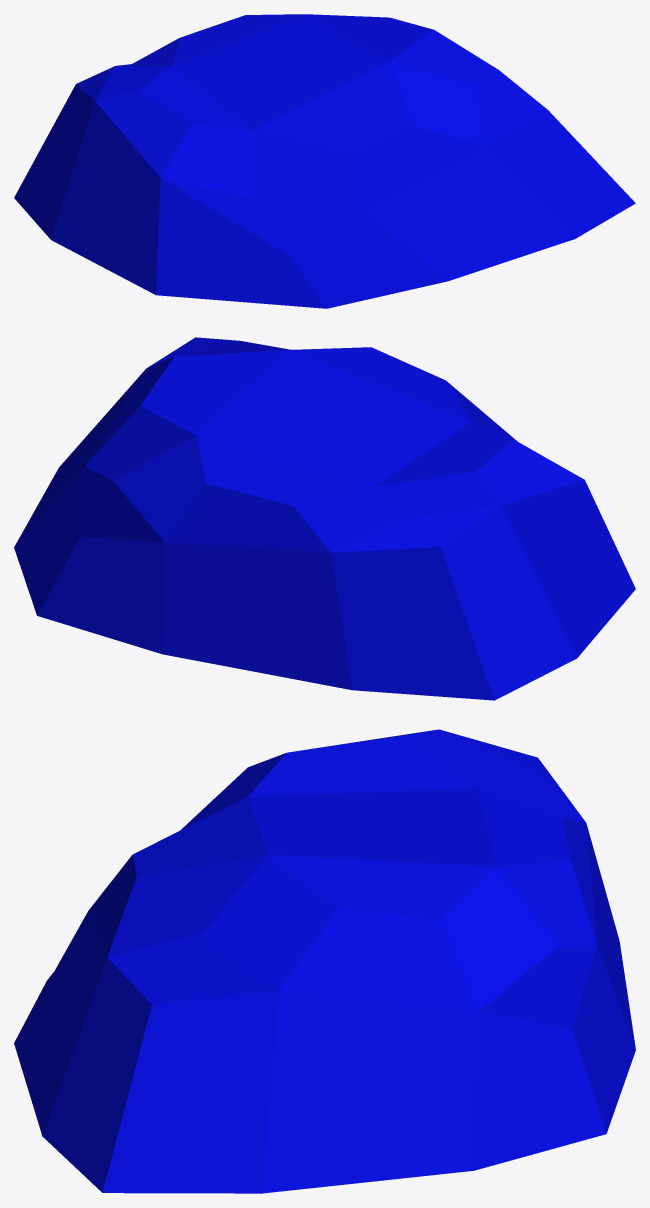
File: SM_Small_RoundStone3.fbx
3 renders of one model, top to bottom at view 1: azimuth 30°, elevation 25°; view 2: azimuth 150°, elevation 25°; view 3: azimuth 270°, elevation 25°, orthographic. The views are drawn at different scales.
Visible parts, largest first — view 1: SM_Small_RoundStone3; view 2: SM_Small_RoundStone3; view 3: SM_Small_RoundStone3.
Boxes of the visible parts, x1=… form: SM_Small_RoundStone3: x1=14, y1=14, x2=635, y2=308; SM_Small_RoundStone3: x1=14, y1=337, x2=635, y2=700; SM_Small_RoundStone3: x1=14, y1=729, x2=635, y2=1193.
Size of the model in its own units: 107 by 33.54 by 84.57.
